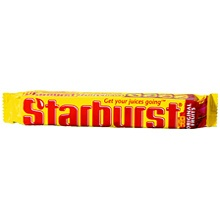grozi_37: (2, 90, 218, 128)
